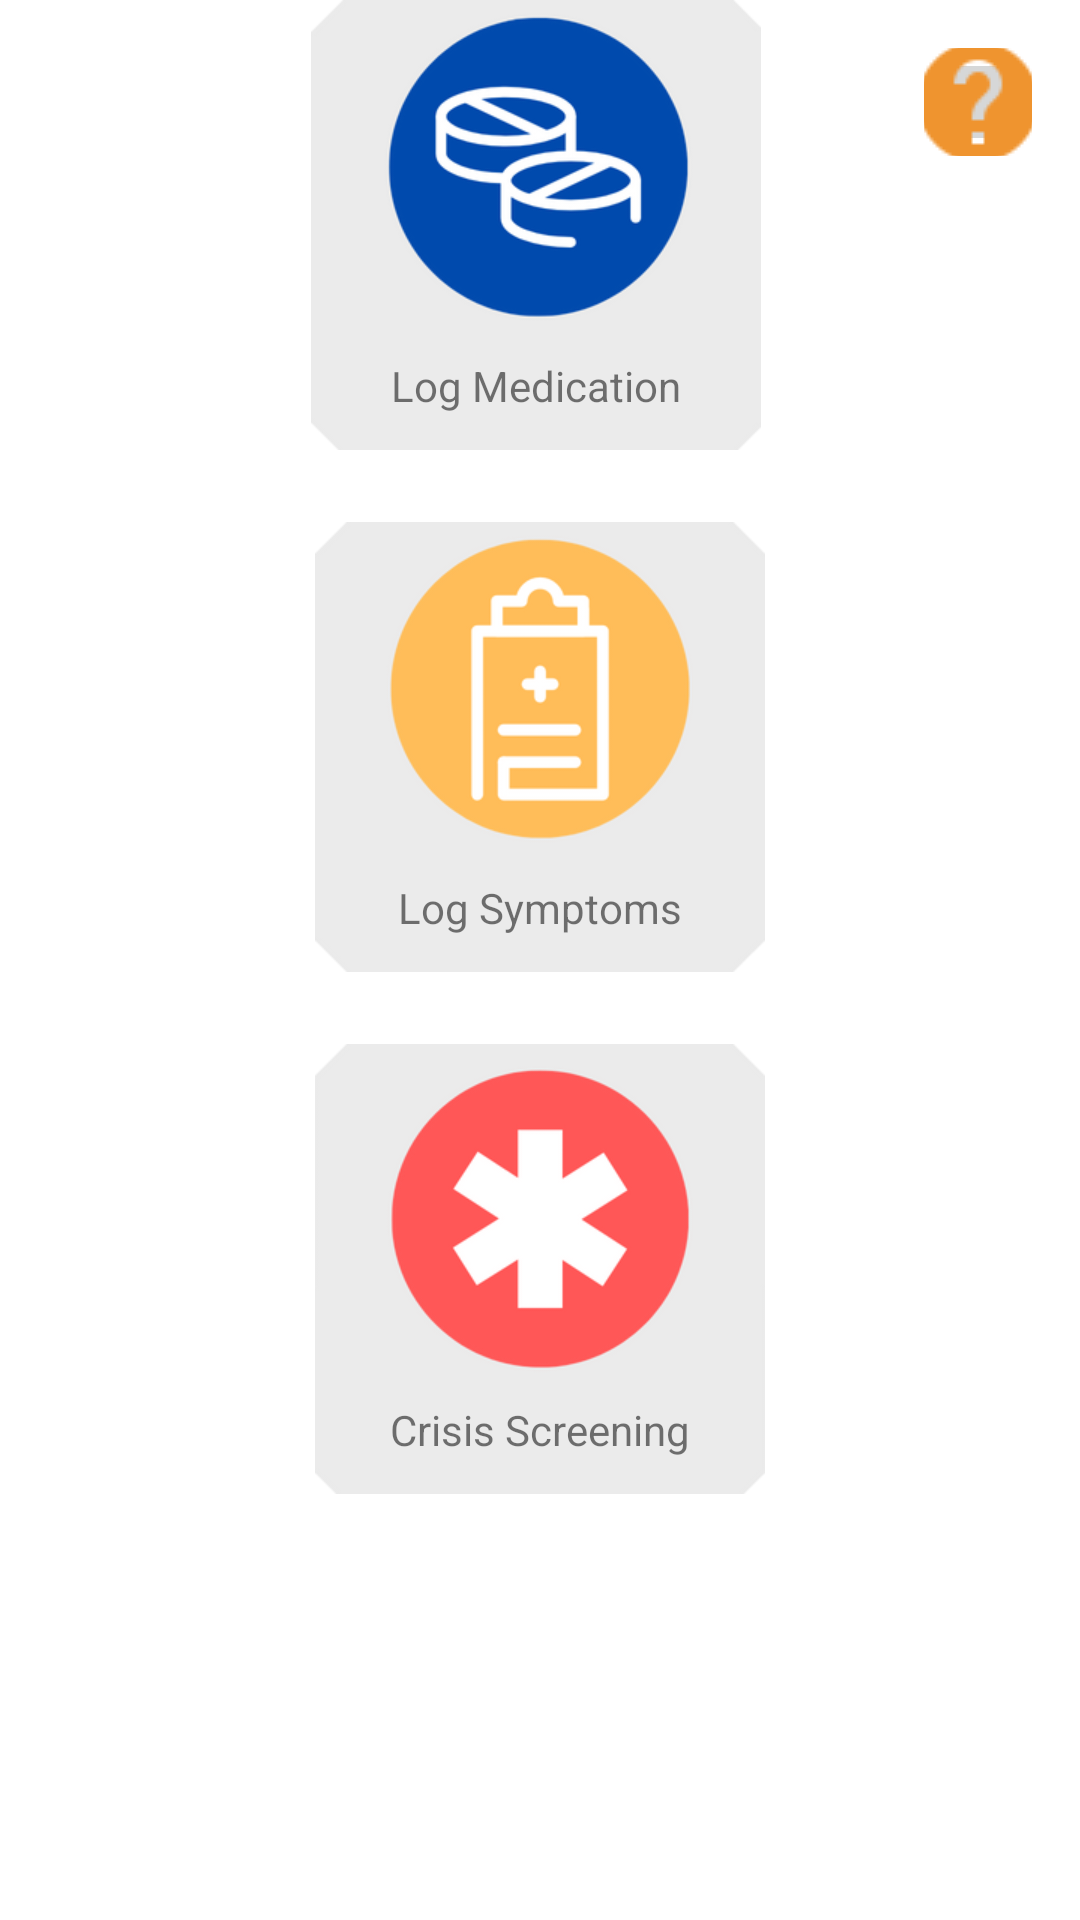

Icon bounding boxes for this 1080px x 1920px phone screenshot, format (x1, y1, x2, y2):
questionmark: (924, 48, 1032, 156)
